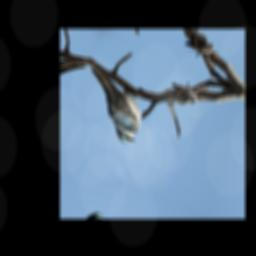Swallow: (73, 66, 152, 148)
